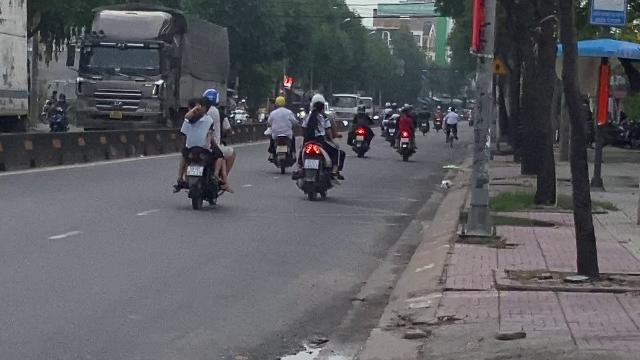helmet: (202, 87, 220, 107)
licenseplate: (187, 165, 203, 175), (304, 159, 318, 169)
motorcyclist: (170, 86, 233, 209), (289, 92, 349, 204)
nohelmet: (312, 102, 326, 116)
